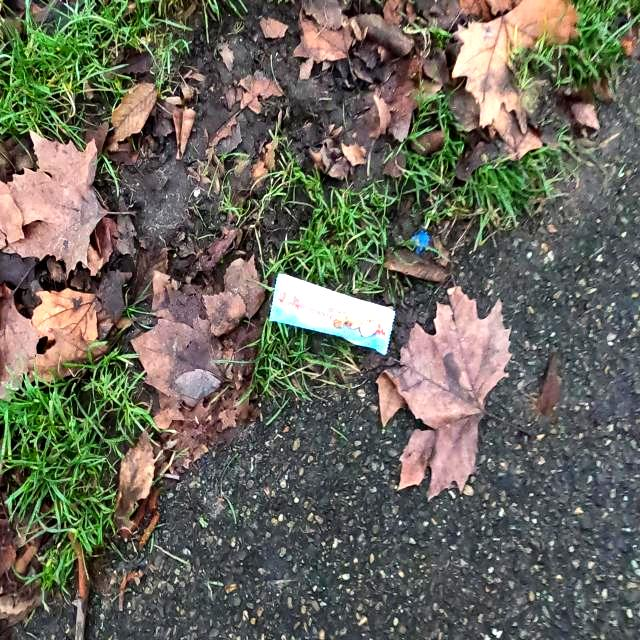Plastic: (265, 268, 397, 358)
